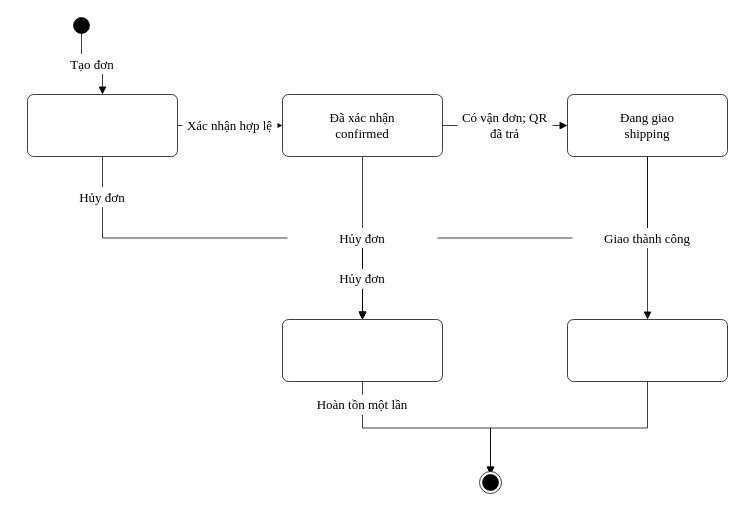
The diagram is 745 pixels wide and 511 high, and some of its shapes have lost their labels. Here are the shapes that lost their labels. From the top down, the centre of each, then its label:
(x=102, y=125): Đang xử lý processing
(x=362, y=350): Đã hủy cancelled
(x=647, y=350): Hoàn tất completed
